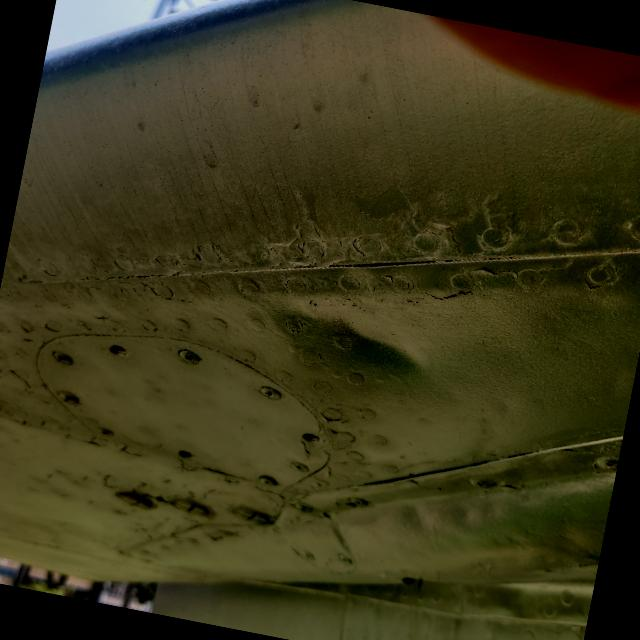dent: (258, 302, 432, 396)
